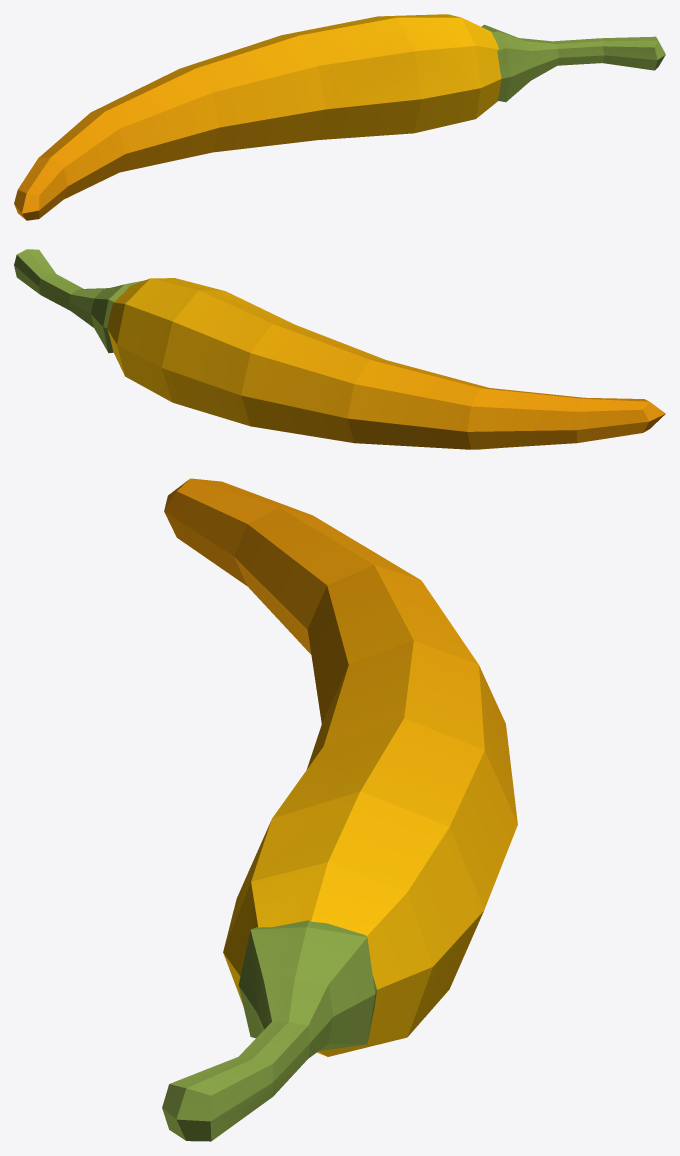
The model's file is chili_pepper_2.fbx.
3 views of the same model, one above another, from view 1: azimuth 30°, elevation 25°; view 2: azimuth 150°, elevation 25°; view 3: azimuth 270°, elevation 25° (orthographic). The views are drawn at different scales.
Visible parts, largest first — view 1: chili_pepper_2; view 2: chili_pepper_2; view 3: chili_pepper_2.
Boxes of the visible parts, x1,y1,x2,y2 form: chili_pepper_2: (14, 14, 665, 220); chili_pepper_2: (14, 249, 665, 449); chili_pepper_2: (162, 478, 517, 1141).
Size of the model in its own units: 0.1819 by 0.0307 by 0.0437.
